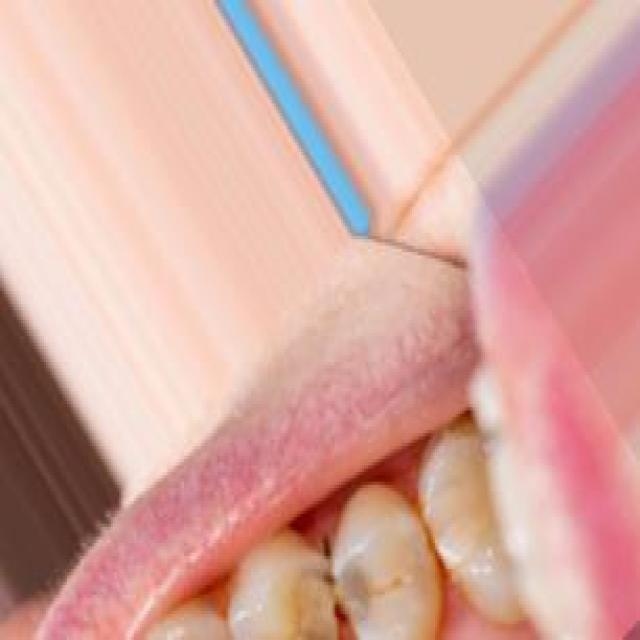caries: (291, 547, 378, 640)
